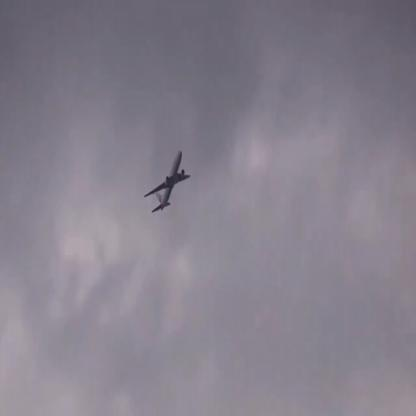CIV_Plane: (145, 152, 192, 214)
